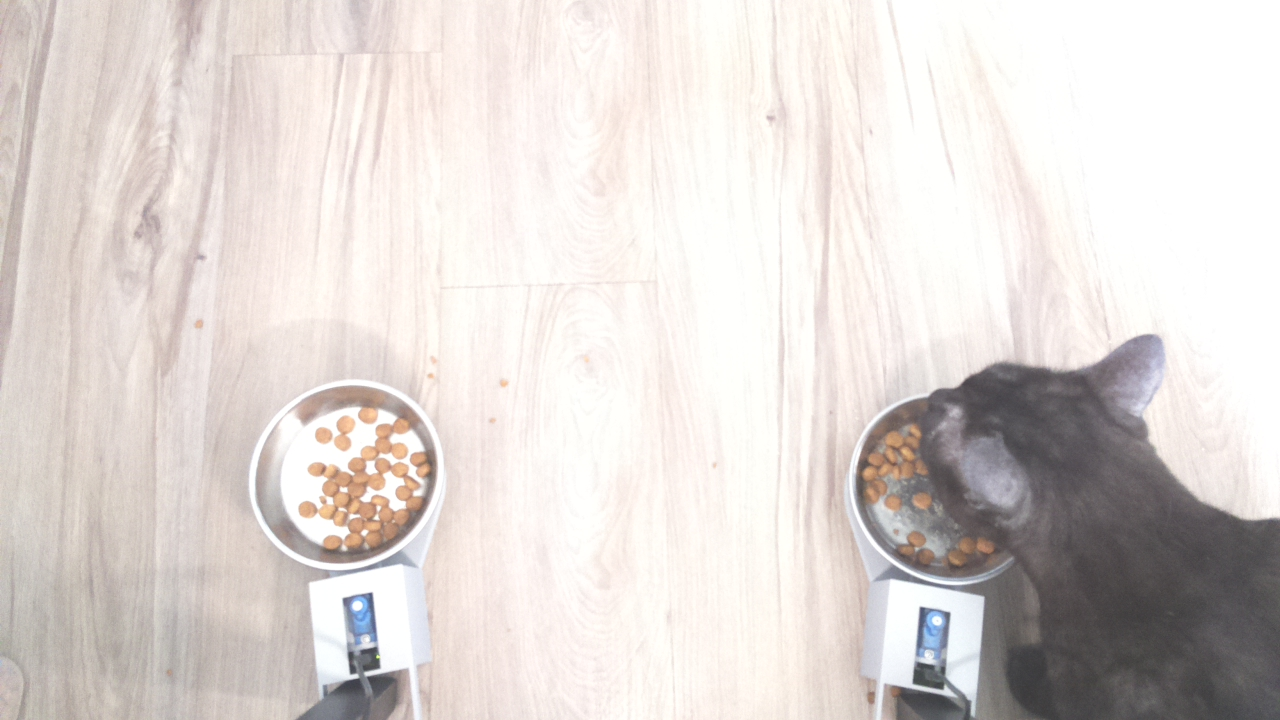open_bowl: (244, 377, 455, 568), (852, 383, 979, 585)
saki: (915, 326, 1254, 627)
